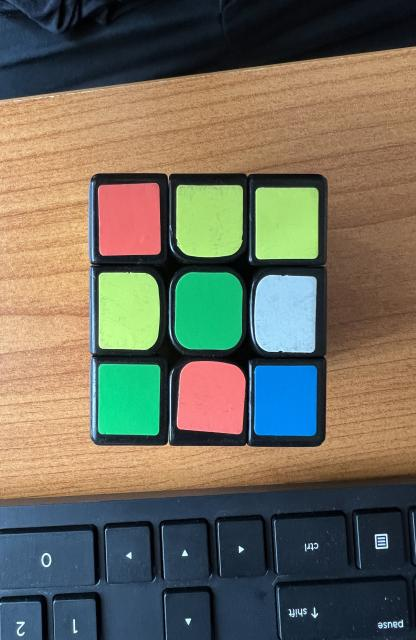Blue: (255, 365, 317, 436)
Green: (174, 272, 243, 350), (98, 364, 160, 435)
Orange: (177, 361, 246, 434), (98, 182, 160, 256)
White: (254, 275, 316, 352)
Yellow: (176, 185, 244, 258), (99, 272, 160, 350), (256, 188, 318, 260)
